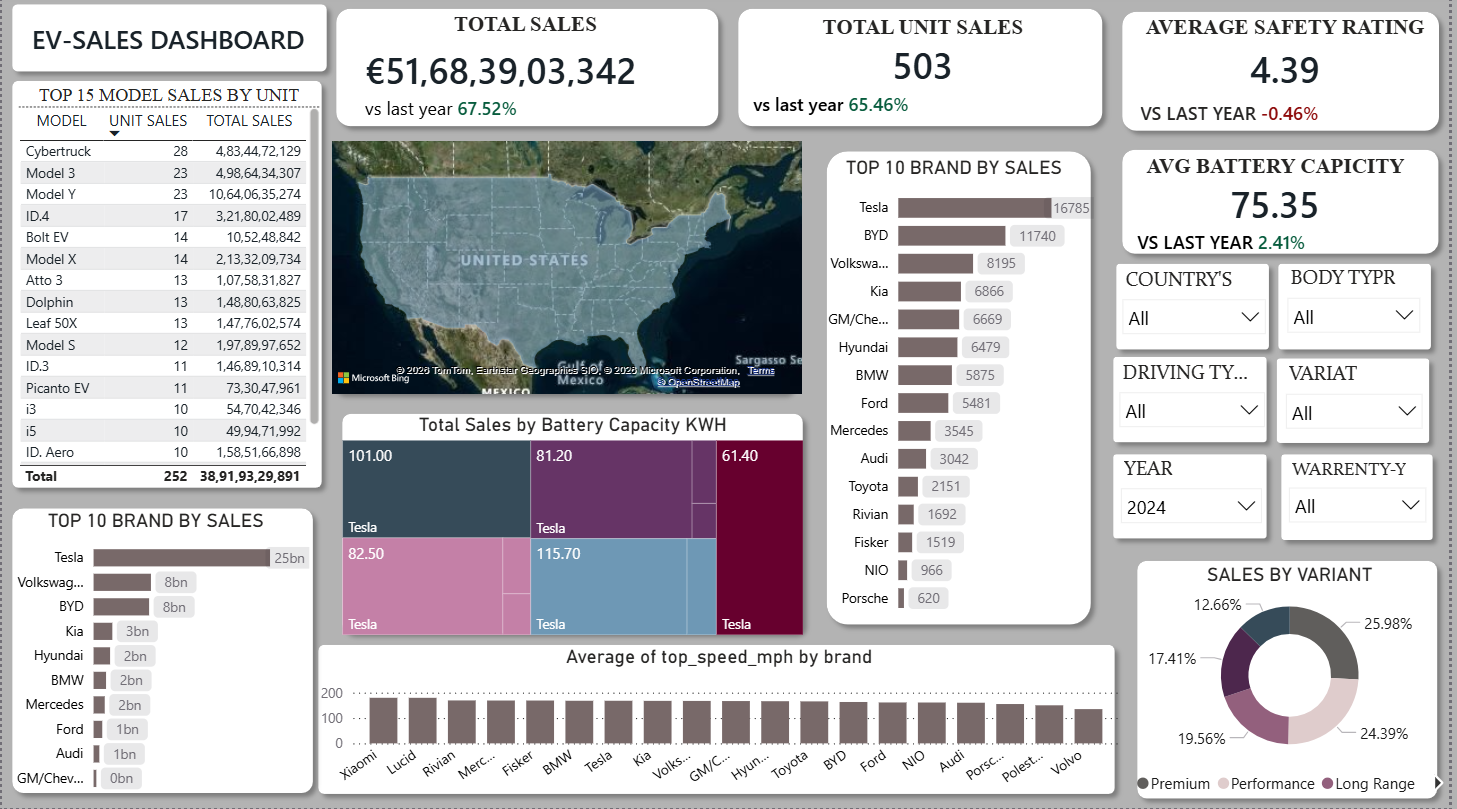

What the dashboard file says about the page in this screenshot:
{"tool":"powerbi","page":{"name":"EV-DASHBOARD","canvas":[1280,720],"ordinal":0},"visuals":[{"type":"shape","box":[973.8,312.3,153.8,93.8],"z":0,"group":"g4"},{"type":"shape","box":[1122,398,152,94],"z":0},{"type":"shape","box":[981.7,6.7,298.3,123.3],"z":1000},{"type":"shape","box":[1118.8,313.5,152.9,92.9],"z":1000,"group":"g3"},{"type":"shape","box":[976.4,230,153.1,93.8],"z":2000,"group":"g1"},{"type":"shape","box":[271.2,566.2,722.5,150],"z":2000},{"type":"shape","box":[283.2,127.2,425.5,234.7],"z":3000},{"type":"shape","box":[1120.2,229,153.1,93.8],"z":3000,"group":"g2"},{"type":"shape","box":[286,4,356,122],"z":4000},{"type":"shape","box":[642,4,340,122],"z":5000},{"type":"shape","box":[0,68.2,291.8,378.2],"z":6000},{"type":"shape","box":[0,446,284,270],"z":7000},{"type":"shape","box":[995,491.7,283.3,228.3],"z":8000},{"type":"shape","box":[720,130,251.7,436.7],"z":9000},{"type":"cardVisual","title":"TOTAL SALES","fields":{"Data":["Year table.total sales"]},"box":[301.8,15.5,323.6,110],"z":10000},{"type":"cardVisual","title":"TOTAL UNIT SALES","fields":{"Data":["Year table.Total sales unit"]},"box":[655.5,19.1,318.2,93.6],"z":11000},{"type":"cardVisual","title":"AVERAGE SAFETY RATING","fields":{"Data":["ASD.avg  Safty range"]},"box":[997.3,18.2,274.5,107.3],"z":12000},{"type":"shape","box":[973.5,398.5,153.8,92.5],"z":12000,"group":"g5"},{"type":"shape","box":[1785.9,459.4,152.9,92.9],"z":13000},{"type":"group","id":"g1","title":"Group 1","box":[976.4,230,153.1,93.8],"z":14000},{"type":"group","id":"g2","title":"Group 2","box":[1120.2,229,153.1,93.8],"z":15000},{"type":"group","id":"g3","title":"Group 3","box":[1118.8,313.5,152.5,92.5],"z":16000},{"type":"group","id":"g4","title":"Group 4","box":[973.8,312.3,153.8,93.8],"z":17000},{"type":"group","id":"g5","title":"Group 5","box":[973.5,398.5,153.8,92.5],"z":18000},{"type":"shape","box":[982.3,128.5,297.7,110],"z":19000},{"type":"slicer","fields":{"Values":["ev_market_2026.drive_type"]},"box":[982.6,324.8,138.8,73.8],"z":19000,"group":"g4"},{"type":"cardVisual","title":"AVG BATTERY CAPICITY","fields":{"Data":["Year table.Average Battery Capicity"]},"box":[995.1,142,262.7,90.2],"z":20000},{"type":"slicer","fields":{"Values":["ev_market_2026.body_type"]},"box":[1131.6,240.2,127.5,72.5],"z":20000,"group":"g2"},{"type":"slicer","fields":{"Values":["ev_market_2026.year"]},"box":[983.5,408.5,135,72.5],"z":21000,"group":"g5"},{"type":"barChart","title":"TOP 10 BRAND BY SALES","fields":{"Category":["ev_market_2026.brand"],"Y":["Year table.total sales"]},"box":[0,455.5,271.8,255.5],"z":21000},{"type":"slicer","fields":{"Values":["ev_market_2026.variant"]},"box":[1130.1,326.1,131.2,71.2],"z":22000,"group":"g3"},{"type":"donutChart","title":"SALES BY VARIANT","fields":{"Category":["ev_market_2026.variant"],"Y":["Year table.total sales"]},"box":[1003.1,502.9,272,209.6],"z":22000},{"type":"slicer","fields":{"Values":["ev_market_2026.country_of_origin"]},"box":[985.6,241.5,136.9,73.1],"z":23000,"group":"g1"},{"type":"slicer","fields":{"Values":["ev_market_2026.warranty_years"]},"box":[1132.6,410.3,131.7,71.2],"z":23000},{"type":"filledMap","fields":{"Category":["ev_market_2026.country_of_origin"]},"box":[292.1,130,416.4,224.3],"z":24000},{"type":"shape","box":[292.2,361.9,425.5,212],"z":25000},{"type":"lineStackedColumnComboChart","fields":{"Y":["Avg(ev_market_2026.top_speed_mph)"],"Category":["ev_market_2026.brand"]},"box":[281.2,576.2,706.2,130],"z":26000},{"type":"tableEx","title":"TOP 15 MODEL SALES BY UNIT","fields":{"Values":["ev_market_2026.model","Year table.Total sales unit","Year table.total sales"]},"box":[15,81.2,266.2,353.8],"z":27000},{"type":"shape","box":[0,0,296.2,77.5],"z":28000},{"type":"cardVisual","fields":{"Data":["Year table.EV"]},"box":[14.6,10.6,272,55.7],"z":29000},{"type":"barChart","title":"TOP 10 BRAND BY SALES","fields":{"Category":["ev_market_2026.brand"],"Y":["Sum(ev_market_2026.top_speed_mph)"]},"box":[717.8,143.3,248.1,410],"z":30000},{"type":"treemap","title":"Total Sales by Battery Capacity KWH","fields":{"Group":["ev_market_2026.battery_capacity_kwh"],"Details":["ev_market_2026.brand"],"Values":["Year table.total sales"]},"box":[301.2,370.2,407.3,196.4],"z":31000}]}

Visuals, with their boxes in screenshot pixels (x1, y1, x2, y2), scaled from the page's 1280x720 canvas onto the 1457x809 screenshot:
shape: region(1108, 351, 1284, 456)
shape: region(1277, 447, 1450, 553)
shape: region(1117, 8, 1456, 146)
shape: region(1274, 352, 1448, 457)
shape: region(1111, 258, 1286, 364)
shape: region(309, 636, 1131, 805)
shape: region(322, 143, 807, 407)
shape: region(1275, 257, 1449, 363)
shape: region(326, 4, 731, 142)
shape: region(731, 4, 1118, 142)
shape: region(0, 77, 332, 502)
shape: region(0, 501, 323, 805)
shape: region(1133, 552, 1455, 808)
shape: region(820, 146, 1106, 637)
"TOTAL SALES" cardVisual: region(344, 17, 712, 141)
"TOTAL UNIT SALES" cardVisual: region(746, 21, 1108, 127)
"AVERAGE SAFETY RATING" cardVisual: region(1135, 20, 1448, 141)
shape: region(1108, 448, 1283, 552)
"Group 1" group: region(1111, 258, 1286, 364)
"Group 2" group: region(1275, 257, 1449, 363)
"Group 3" group: region(1274, 352, 1447, 456)
"Group 4" group: region(1108, 351, 1284, 456)
"Group 5" group: region(1108, 448, 1283, 552)
shape: region(1118, 144, 1456, 268)
slicer - ev_market_2026.drive_type: region(1118, 365, 1276, 448)
"AVG BATTERY CAPICITY" cardVisual: region(1133, 160, 1432, 261)
slicer - ev_market_2026.body_type: region(1288, 270, 1433, 351)
slicer - ev_market_2026.year: region(1119, 459, 1273, 540)
"TOP 10 BRAND BY SALES" barChart: region(0, 512, 309, 799)
slicer - ev_market_2026.variant: region(1286, 366, 1436, 446)
"SALES BY VARIANT" donutChart: region(1142, 565, 1451, 801)
slicer - ev_market_2026.country_of_origin: region(1122, 271, 1278, 353)
slicer - ev_market_2026.warranty_years: region(1289, 461, 1439, 541)
filledMap - ev_market_2026.country_of_origin: region(332, 146, 806, 398)
shape: region(333, 407, 817, 645)
lineStackedColumnComboChart - Avg(ev_market_2026.top_speed_mph) x ev_market_2026.brand: region(320, 647, 1124, 793)
"TOP 15 MODEL SALES BY UNIT" tableEx: region(17, 91, 320, 489)
shape: region(0, 0, 337, 87)
cardVisual - Year table.EV: region(17, 12, 326, 74)
"TOP 10 BRAND BY SALES" barChart: region(817, 161, 1099, 622)
"Total Sales by Battery Capacity KWH" treemap: region(343, 416, 806, 637)
